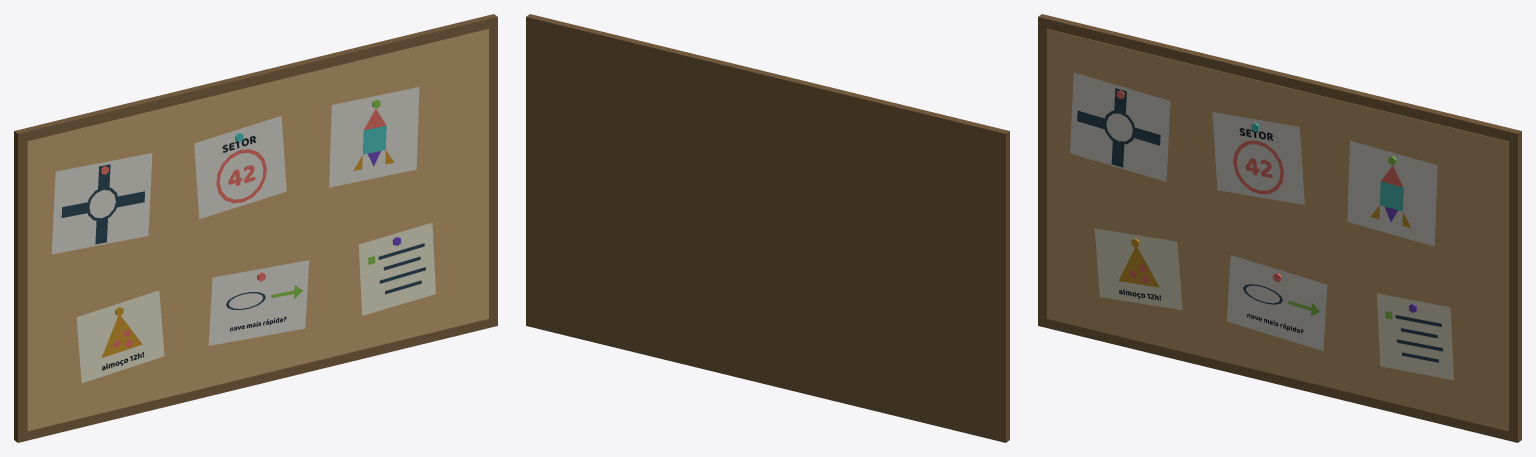
File: mural_papeis.glb
The picture shows the model from 3 angles, left to right: view 1: azimuth 30°, elevation 25°; view 2: azimuth 150°, elevation 25°; view 3: azimuth 330°, elevation 25°; orthographic projection.
Visible parts, largest first — view 1: mural_papeis_malha; view 2: mural_papeis_malha; view 3: mural_papeis_malha.
Boxes of the visible parts, x1,y1,x2,y2 form: mural_papeis_malha: (14,14,497,442); mural_papeis_malha: (526,14,1009,442); mural_papeis_malha: (1038,14,1521,442).
Size of the model in its own units: 2.08 by 1.28 by 0.049.
